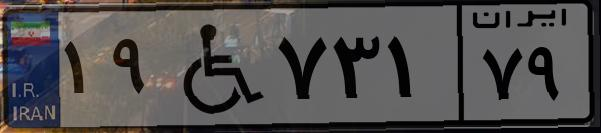1: (385, 28, 445, 110), (57, 26, 110, 100)
3: (330, 28, 385, 110)
7: (270, 28, 330, 110), (475, 38, 525, 113)
9: (525, 38, 570, 115), (110, 28, 158, 98)
ژ (معلولین و جانبازان): (158, 12, 270, 120)
